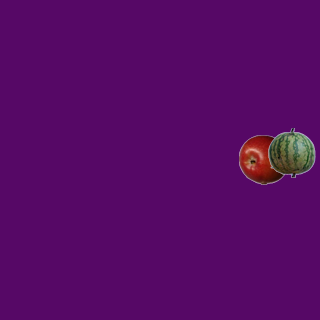Apple Braeburn: (238, 134, 288, 184)
Watermelon: (266, 127, 316, 177)
